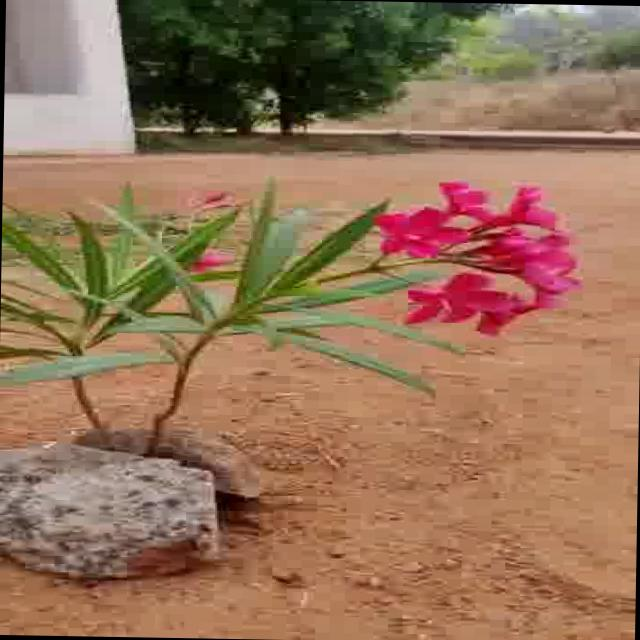OLEANDER: (0, 165, 635, 418)
